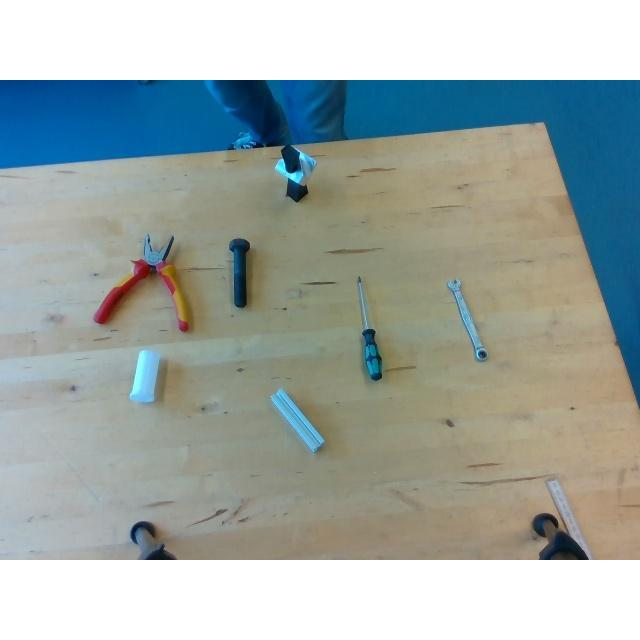F20_20_G: (272, 389, 324, 451)
M20_100: (229, 238, 249, 306)
Screwdriver: (357, 276, 381, 379)
Spacer: (128, 349, 160, 401)
Wrench: (447, 278, 487, 360)
